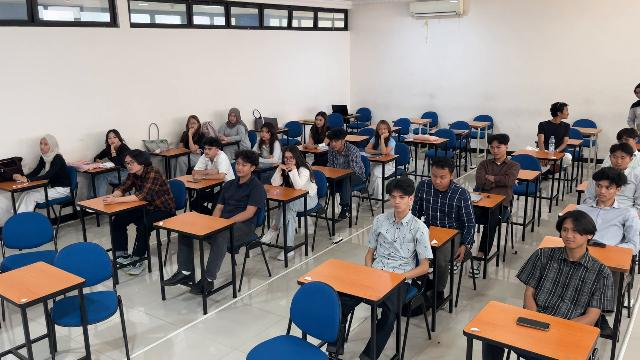fokus: (561, 224, 582, 248), (594, 181, 614, 201), (431, 169, 448, 190), (390, 191, 407, 211), (610, 152, 627, 169), (489, 143, 505, 159), (125, 155, 139, 173), (235, 159, 248, 176), (618, 136, 634, 148), (284, 153, 296, 166), (329, 138, 341, 151), (108, 133, 119, 147), (203, 146, 217, 157), (379, 124, 389, 137), (40, 139, 49, 153), (188, 118, 198, 130), (261, 128, 270, 140), (315, 116, 324, 127), (229, 114, 237, 122)
